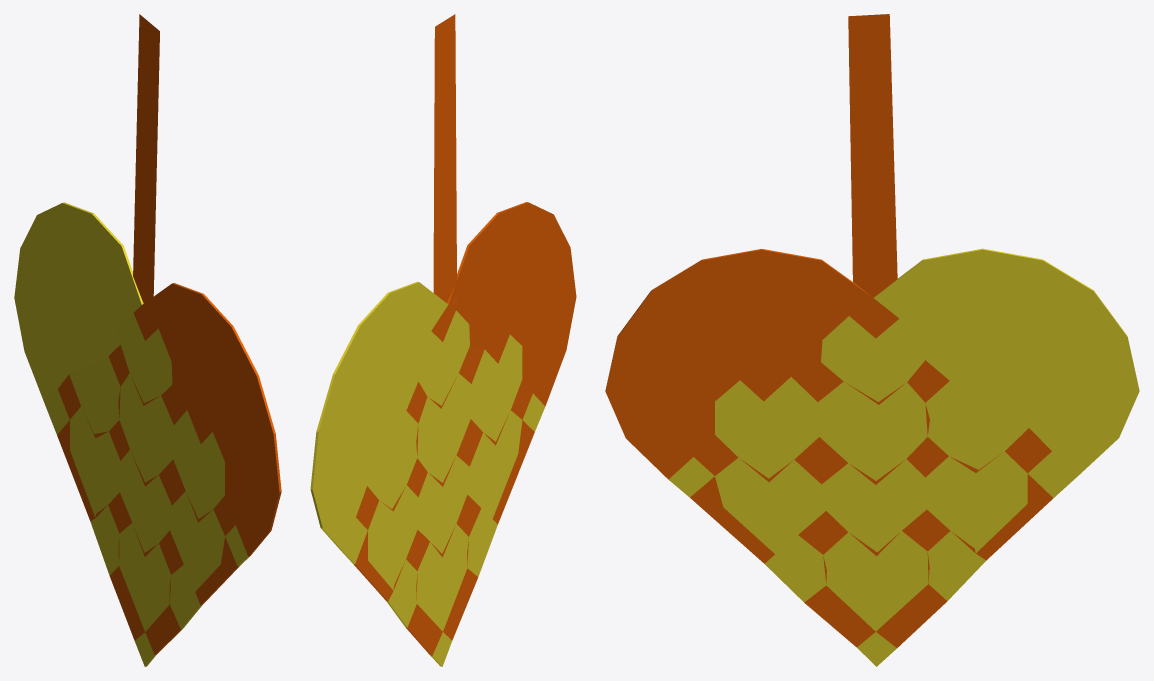
File: heart17.glb
3 views of the same model, side by side, from view 1: azimuth 30°, elevation 25°; view 2: azimuth 150°, elevation 25°; view 3: azimuth 270°, elevation 25° (orthographic).
Visible parts, largest first — view 1: heart17; view 2: heart17; view 3: heart17.
Part boxes in pixels (left/top/right/bottom): heart17: left=14, top=14, right=281, bottom=666; heart17: left=310, top=14, right=576, bottom=666; heart17: left=605, top=14, right=1139, bottom=666.
Bounding box in the file's own units: 0.00199 × 0.184 × 0.1365.
